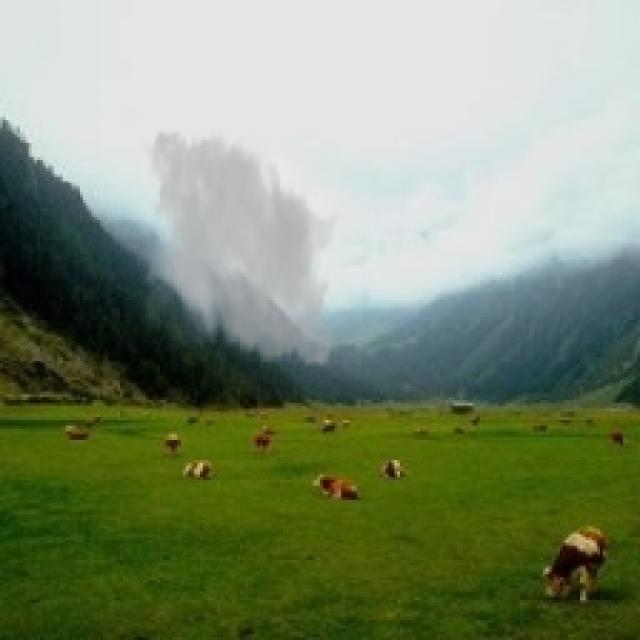smoke: (134, 120, 354, 377)
